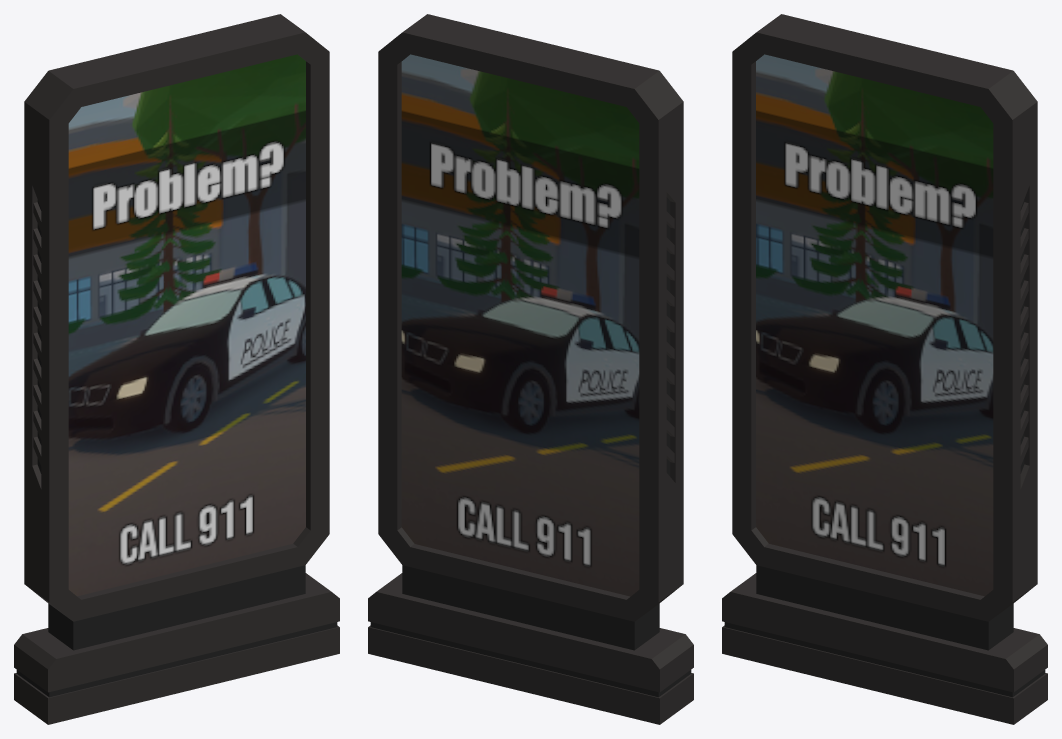
The model's file is SM_Props_Ads_03.fbx.
The picture shows the model from 3 angles, left to right: view 1: azimuth 30°, elevation 25°; view 2: azimuth 150°, elevation 25°; view 3: azimuth 330°, elevation 25°; orthographic projection.
Visible parts, largest first — view 1: SM_Props_Ads_03; view 2: SM_Props_Ads_03; view 3: SM_Props_Ads_03.
Part boxes in pixels (x1,y1,x2,y2): SM_Props_Ads_03: (14, 14, 339, 724); SM_Props_Ads_03: (368, 14, 693, 724); SM_Props_Ads_03: (722, 14, 1047, 724).
Size of the model in its own units: 0.9367 by 1.92 by 0.1891.
